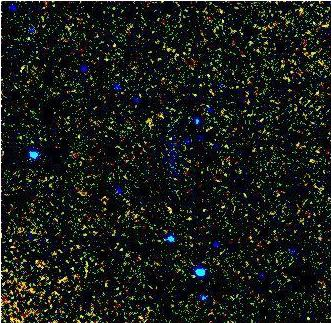star: (134, 109, 164, 139)
